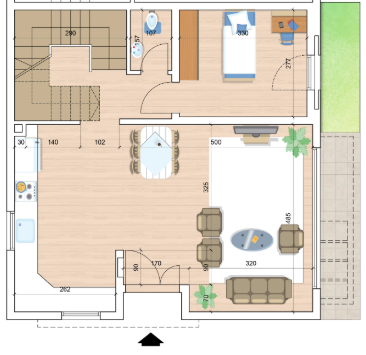door: (268, 52, 304, 93), (138, 81, 170, 116), (138, 41, 170, 68)
room: (179, 10, 307, 116)
window: (4, 211, 14, 251), (60, 309, 100, 319)
